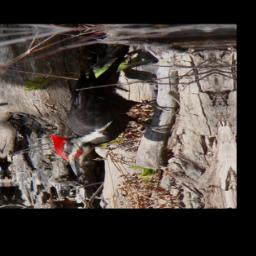Woodpecker: (34, 44, 185, 179)
